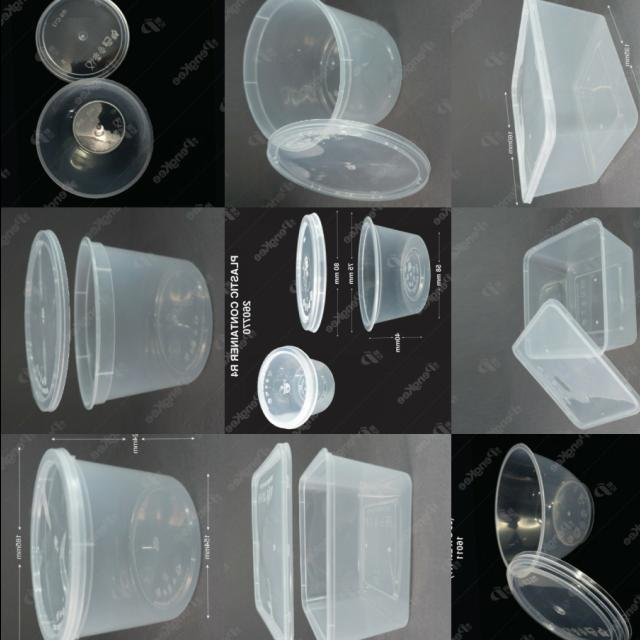plastik: (29, 448, 200, 640), (511, 0, 637, 204), (73, 237, 212, 410), (243, 0, 401, 151), (297, 448, 411, 640), (511, 299, 640, 430), (523, 218, 635, 359), (492, 439, 591, 581), (36, 79, 152, 197), (265, 119, 429, 201), (503, 550, 634, 640), (24, 230, 70, 412), (251, 443, 293, 640), (357, 217, 429, 331), (34, 0, 129, 82), (256, 346, 334, 428), (295, 213, 326, 333)
